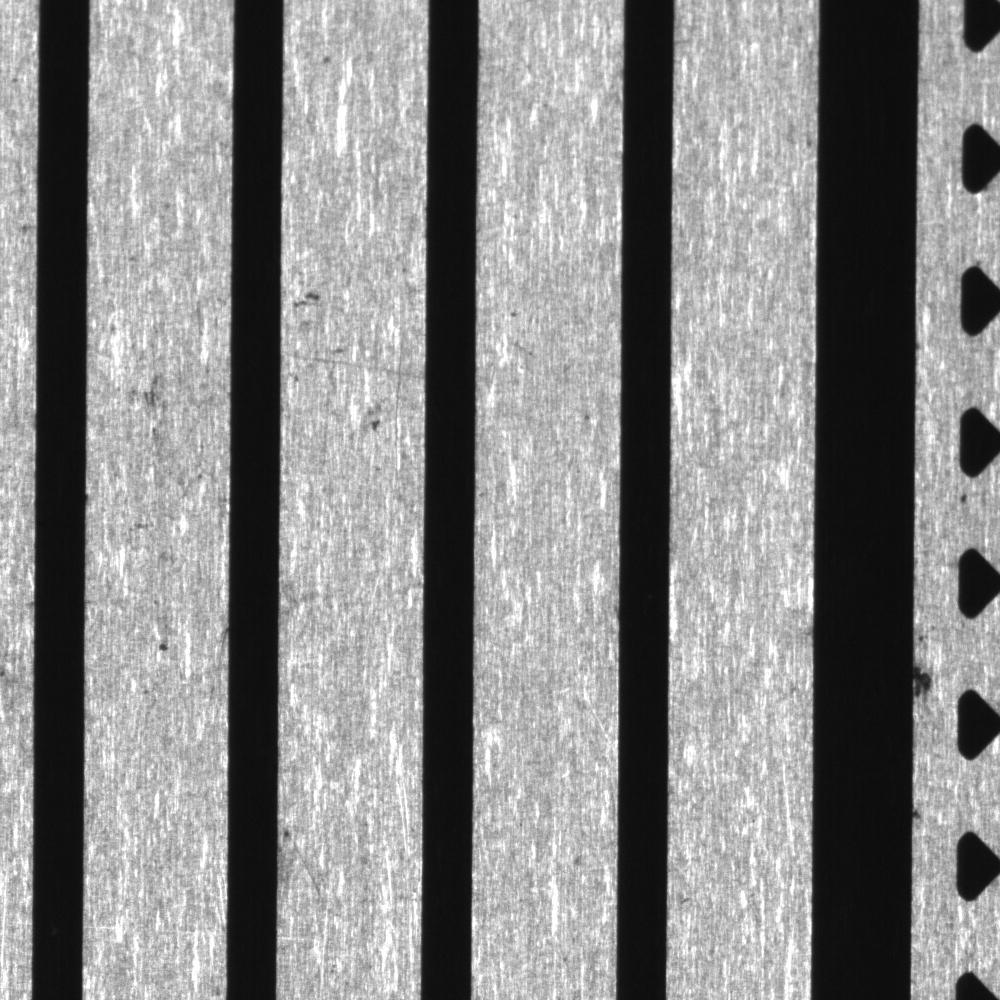Etching: (118, 367, 184, 425), (911, 624, 948, 717), (360, 394, 400, 439), (147, 589, 172, 659), (287, 277, 325, 319)
Pinhole: (499, 296, 526, 327), (573, 403, 598, 428), (317, 45, 339, 73)
Scar: (283, 341, 425, 379), (287, 834, 333, 901)
